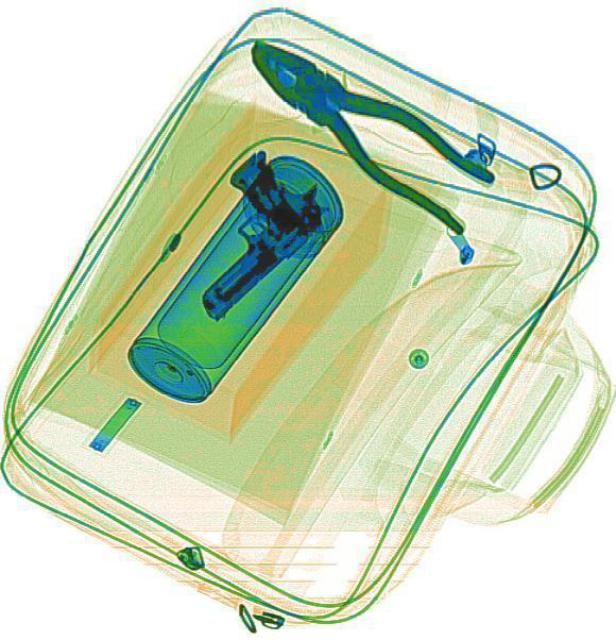Gun: (146, 128, 343, 326)
Pliers: (225, 11, 501, 239)
